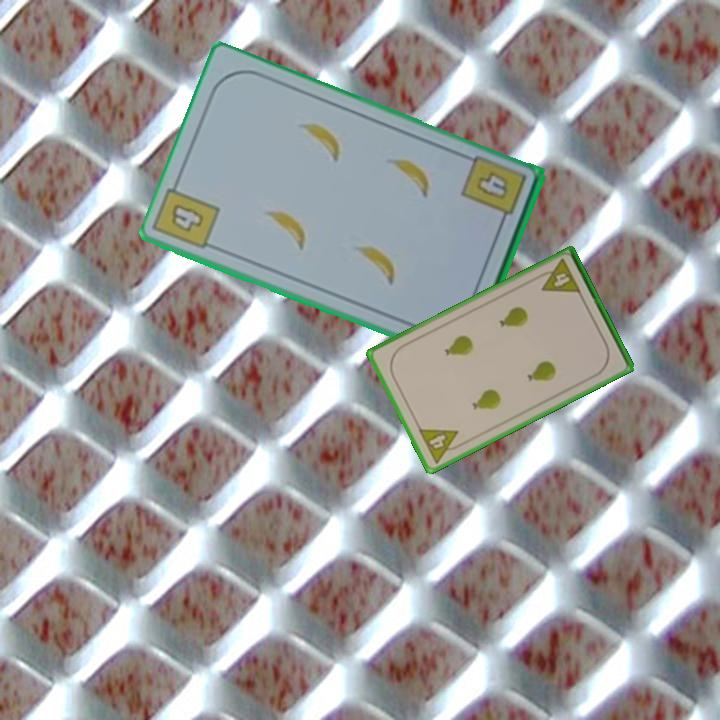4b: (458, 156, 529, 230), (167, 200, 207, 236)
4p: (533, 255, 584, 297), (415, 425, 467, 466)
